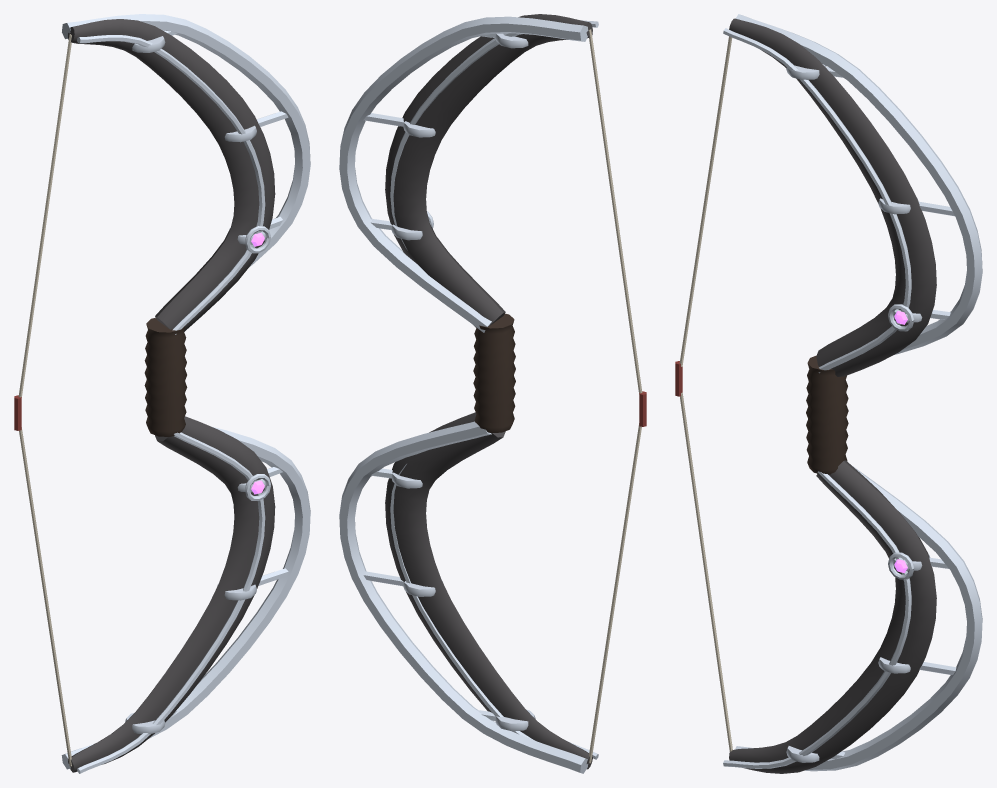
The model's file is depth_icebranch_longbow.glb.
3 views of the same model, side by side, from view 1: azimuth 30°, elevation 25°; view 2: azimuth 150°, elevation 25°; view 3: azimuth 330°, elevation 25° (orthographic).
Parts seen in each view (by area): view 1: depth_icebranch_longbow; view 2: depth_icebranch_longbow; view 3: depth_icebranch_longbow.
Part boxes in pixels (x1,y1,x2,y2): depth_icebranch_longbow: (14,14,310,773); depth_icebranch_longbow: (339,14,646,773); depth_icebranch_longbow: (675,14,982,773).
Size of the model in its own units: 0.509 by 1.21 by 0.0643.
